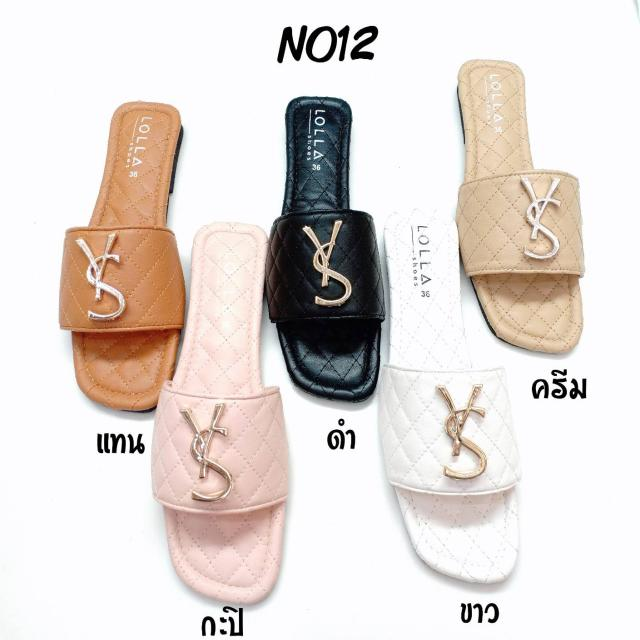black: (273, 95, 384, 397)
cream: (449, 51, 593, 358)
kapi: (154, 222, 296, 603)
tan: (60, 98, 181, 424)
white: (377, 214, 521, 582)
